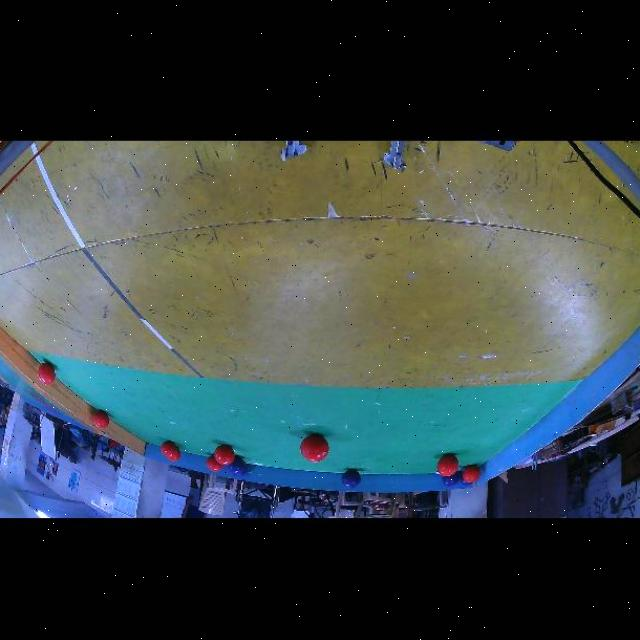P: (227, 456, 246, 473), (342, 470, 361, 487), (442, 472, 460, 487), (460, 475, 473, 487), (233, 467, 247, 477)
R: (301, 434, 330, 462), (437, 454, 458, 476), (37, 362, 56, 386), (214, 445, 235, 466), (462, 464, 481, 483), (161, 441, 178, 459), (206, 455, 222, 472), (94, 411, 109, 429), (168, 448, 182, 462)
